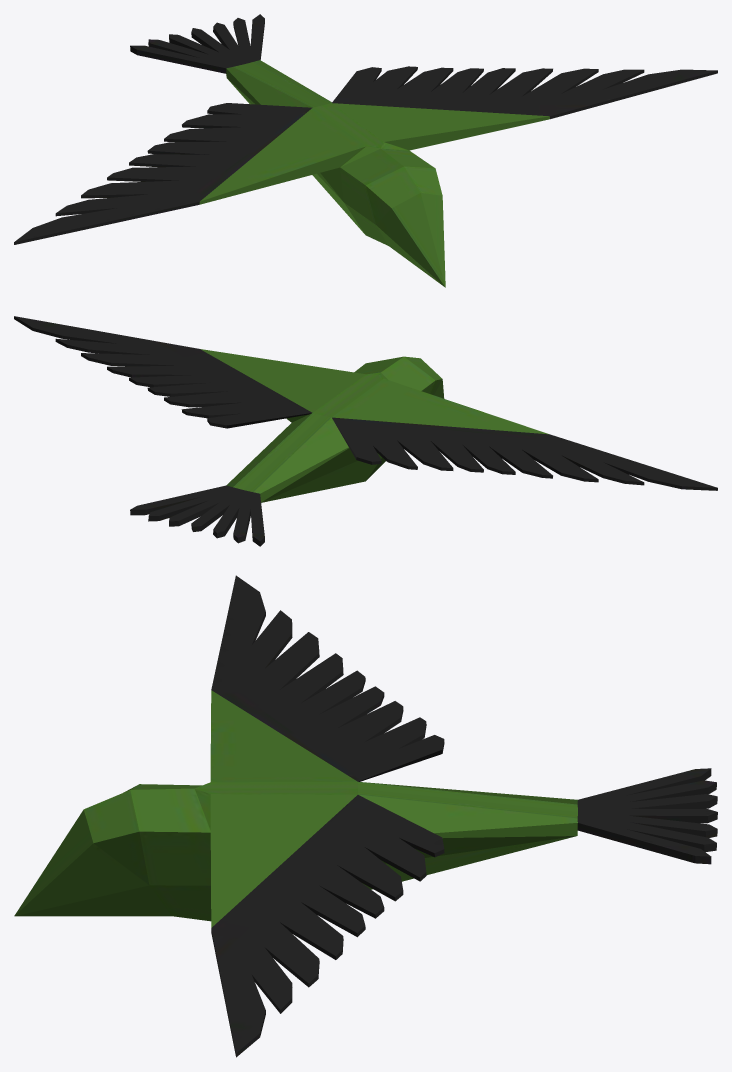
Rendered from bird-forest.glb.
The picture shows the model from 3 angles, top to bottom: view 1: azimuth 30°, elevation 25°; view 2: azimuth 150°, elevation 25°; view 3: azimuth 270°, elevation 25°; orthographic projection. The views are drawn at different scales.
Parts seen in each view (by area): view 1: 23smolbirdFinal; view 2: 23smolbirdFinal; view 3: 23smolbirdFinal.
Part boxes in pixels (x1,y1,x2,y2): 23smolbirdFinal: (14, 14, 717, 287); 23smolbirdFinal: (14, 316, 717, 546); 23smolbirdFinal: (14, 575, 717, 1057).
Size of the model in its own units: 0.5807 by 0.0773 by 0.3613.
Materials: 1 (1 with a texture image).
